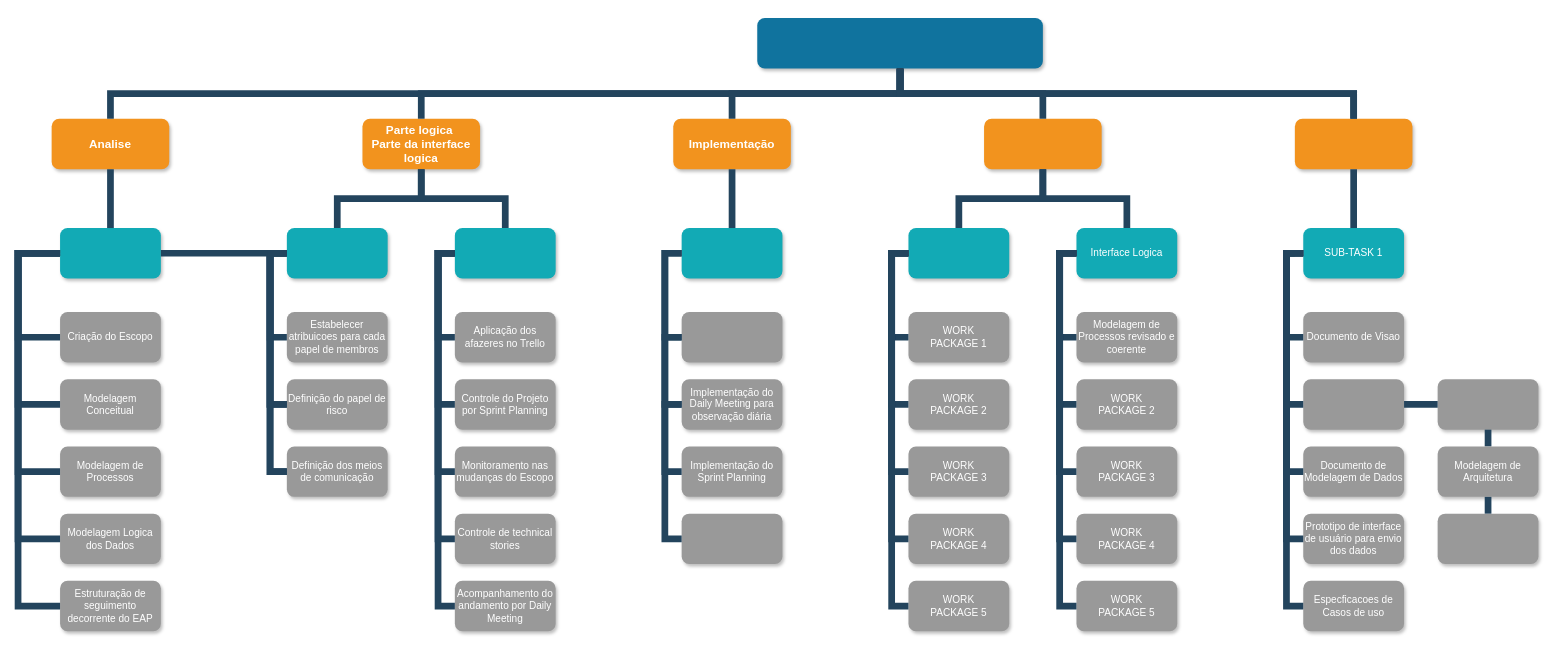
This 1557x651 diagram has some shape labels left out. The shapes that lost their labels are listed below. From the top down, each one's centre as x and y in pixels, then its label:
the point at 900,44: PROJETO INTEGRADO
the point at 1043,145: Validação e teste
the point at 1354,145: Documentação
the point at 110,254: Planejamento
the point at 337,254: Plano do Projeto
the point at 505,254: Controle e Monitoramento
the point at 732,254: Processo Logico
the point at 732,338: Adição de Capacidade no :tipomesa
the point at 1354,405: Documento de Arquitetura
the point at 1488,405: Modelagem de Banco de Dados
the point at 732,540: Modelo de controle Technical Stories (BackLog)
the point at 1488,540: Definição das Tecnologias
